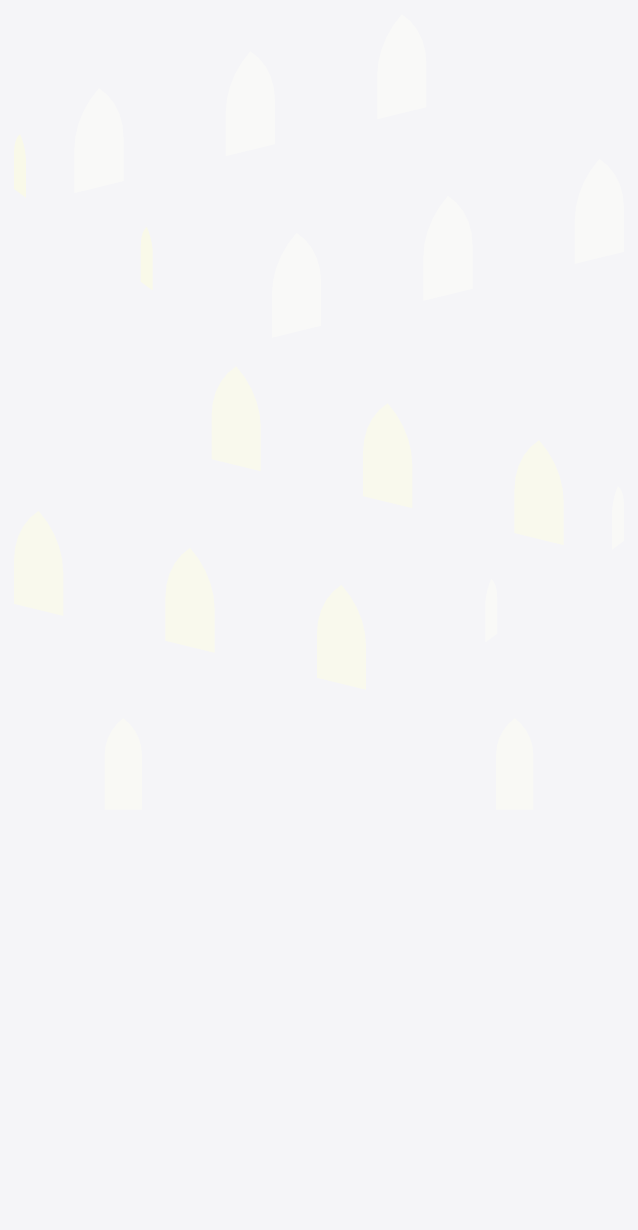
Rendered from SM_Town_Church_Glass_LOD1.fbx.
3 views of the same model, one above another, from view 1: azimuth 30°, elevation 25°; view 2: azimuth 150°, elevation 25°; view 3: azimuth 270°, elevation 25° (orthographic). The views are drawn at different scales.
Parts seen in each view (by area): view 1: SM_Town_Church_Glass_LOD1; view 2: SM_Town_Church_Glass_LOD1; view 3: SM_Town_Church_Glass_LOD1.
Part boxes in pixels (left/top/right/bottom): SM_Town_Church_Glass_LOD1: left=14, top=15, right=623, bottom=337; SM_Town_Church_Glass_LOD1: left=14, top=367, right=623, bottom=689; SM_Town_Church_Glass_LOD1: left=105, top=718, right=532, bottom=809.
Size of the model in its own units: 11.67 by 9.04 by 2.7.
